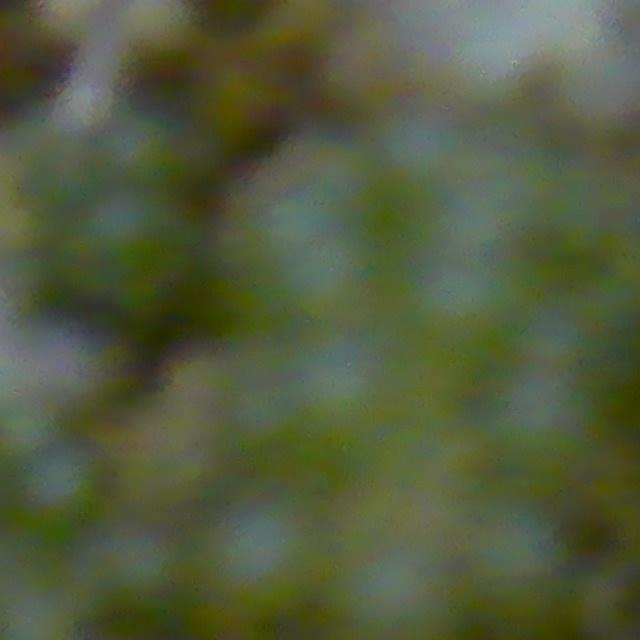SeaGrape: (205, 496, 321, 618), (447, 500, 563, 622), (98, 525, 186, 609), (83, 184, 171, 267), (417, 259, 502, 341), (23, 443, 102, 521)
